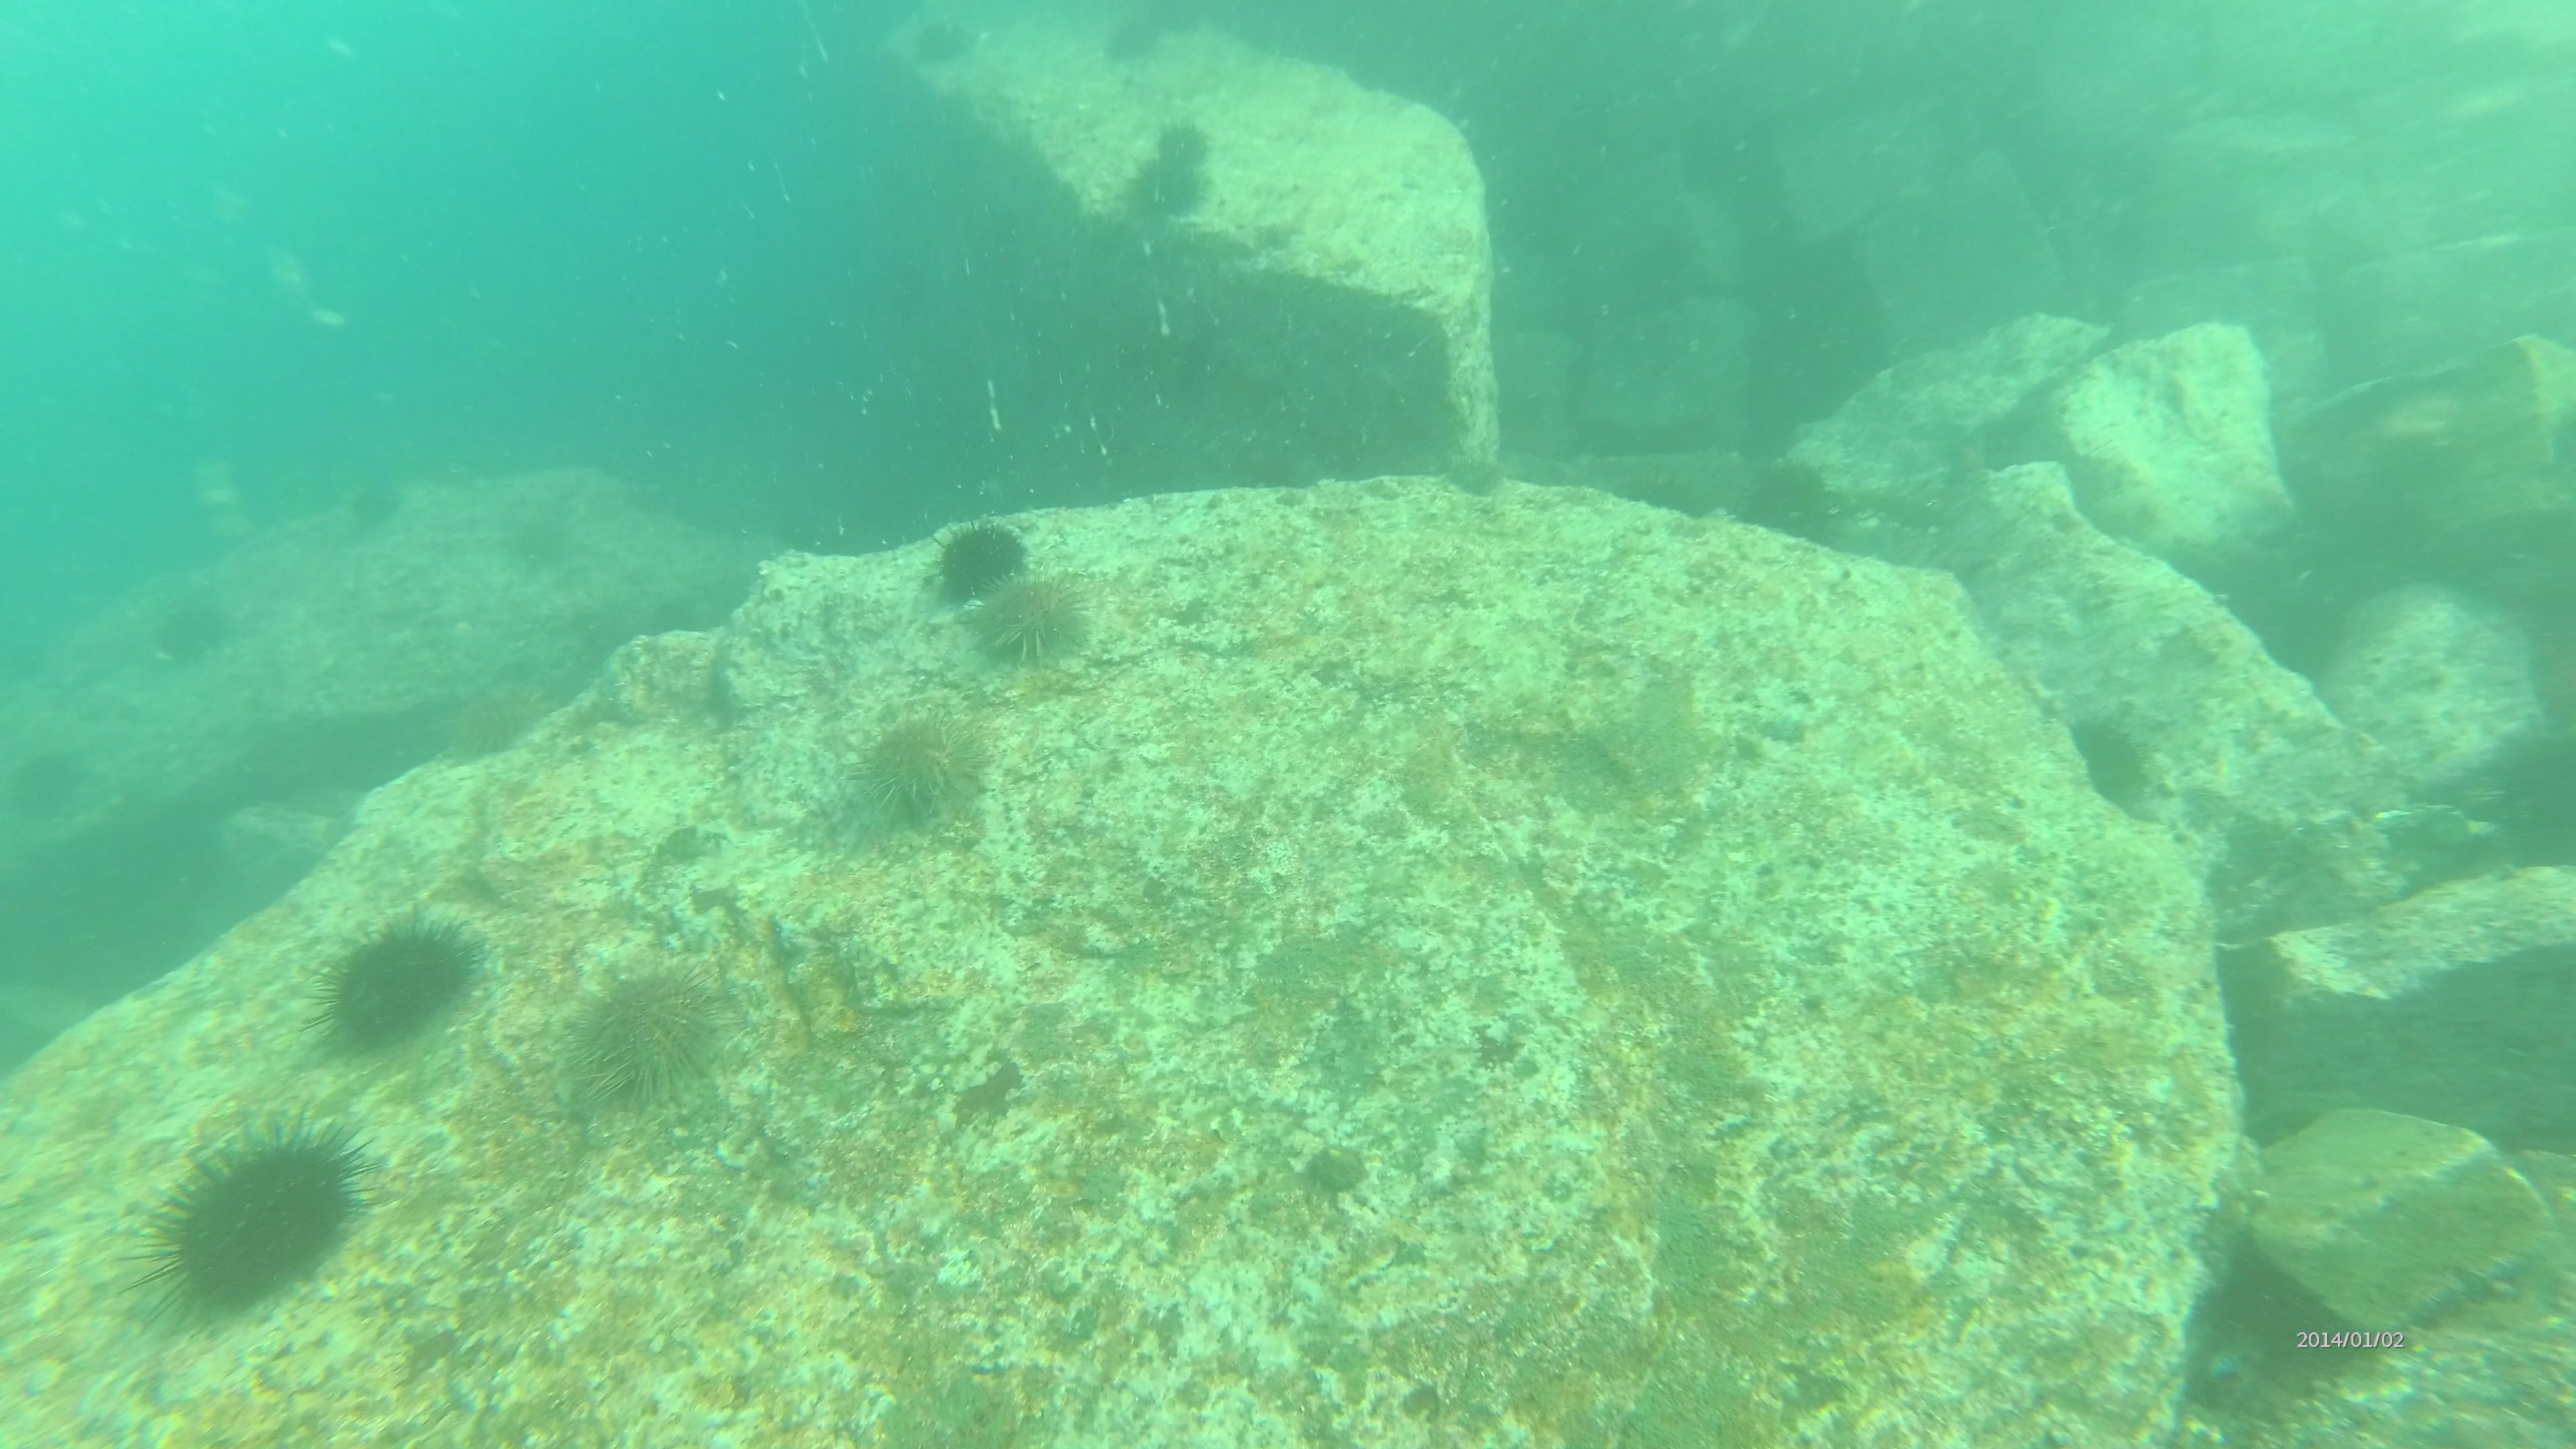echinus: (131, 1109, 372, 1322), (299, 908, 492, 1044), (589, 962, 741, 1104), (849, 708, 978, 823), (970, 564, 1097, 679), (2063, 701, 2171, 824), (927, 511, 1037, 609), (1743, 451, 1833, 554), (0, 740, 90, 830), (1118, 154, 1219, 232), (145, 600, 230, 672), (1146, 106, 1221, 179), (345, 469, 410, 534), (911, 14, 984, 69), (1106, 4, 1157, 69), (1146, 0, 1215, 44)
